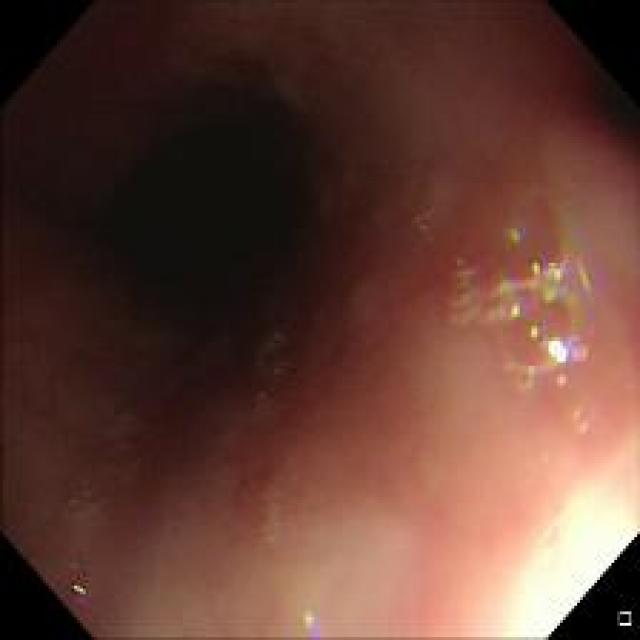bubbles: (439, 185, 602, 396), (249, 325, 289, 392), (61, 482, 110, 524)
color misalignment: (449, 252, 595, 391), (68, 568, 101, 616), (504, 205, 539, 248), (298, 604, 341, 636)
contrast: (59, 61, 368, 411)
saturation: (491, 491, 634, 632)
